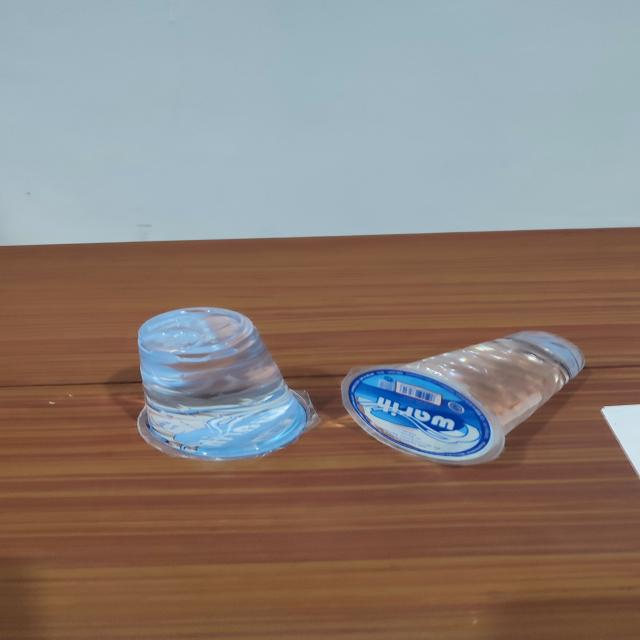air gelas: (338, 321, 595, 463), (119, 306, 326, 452)
